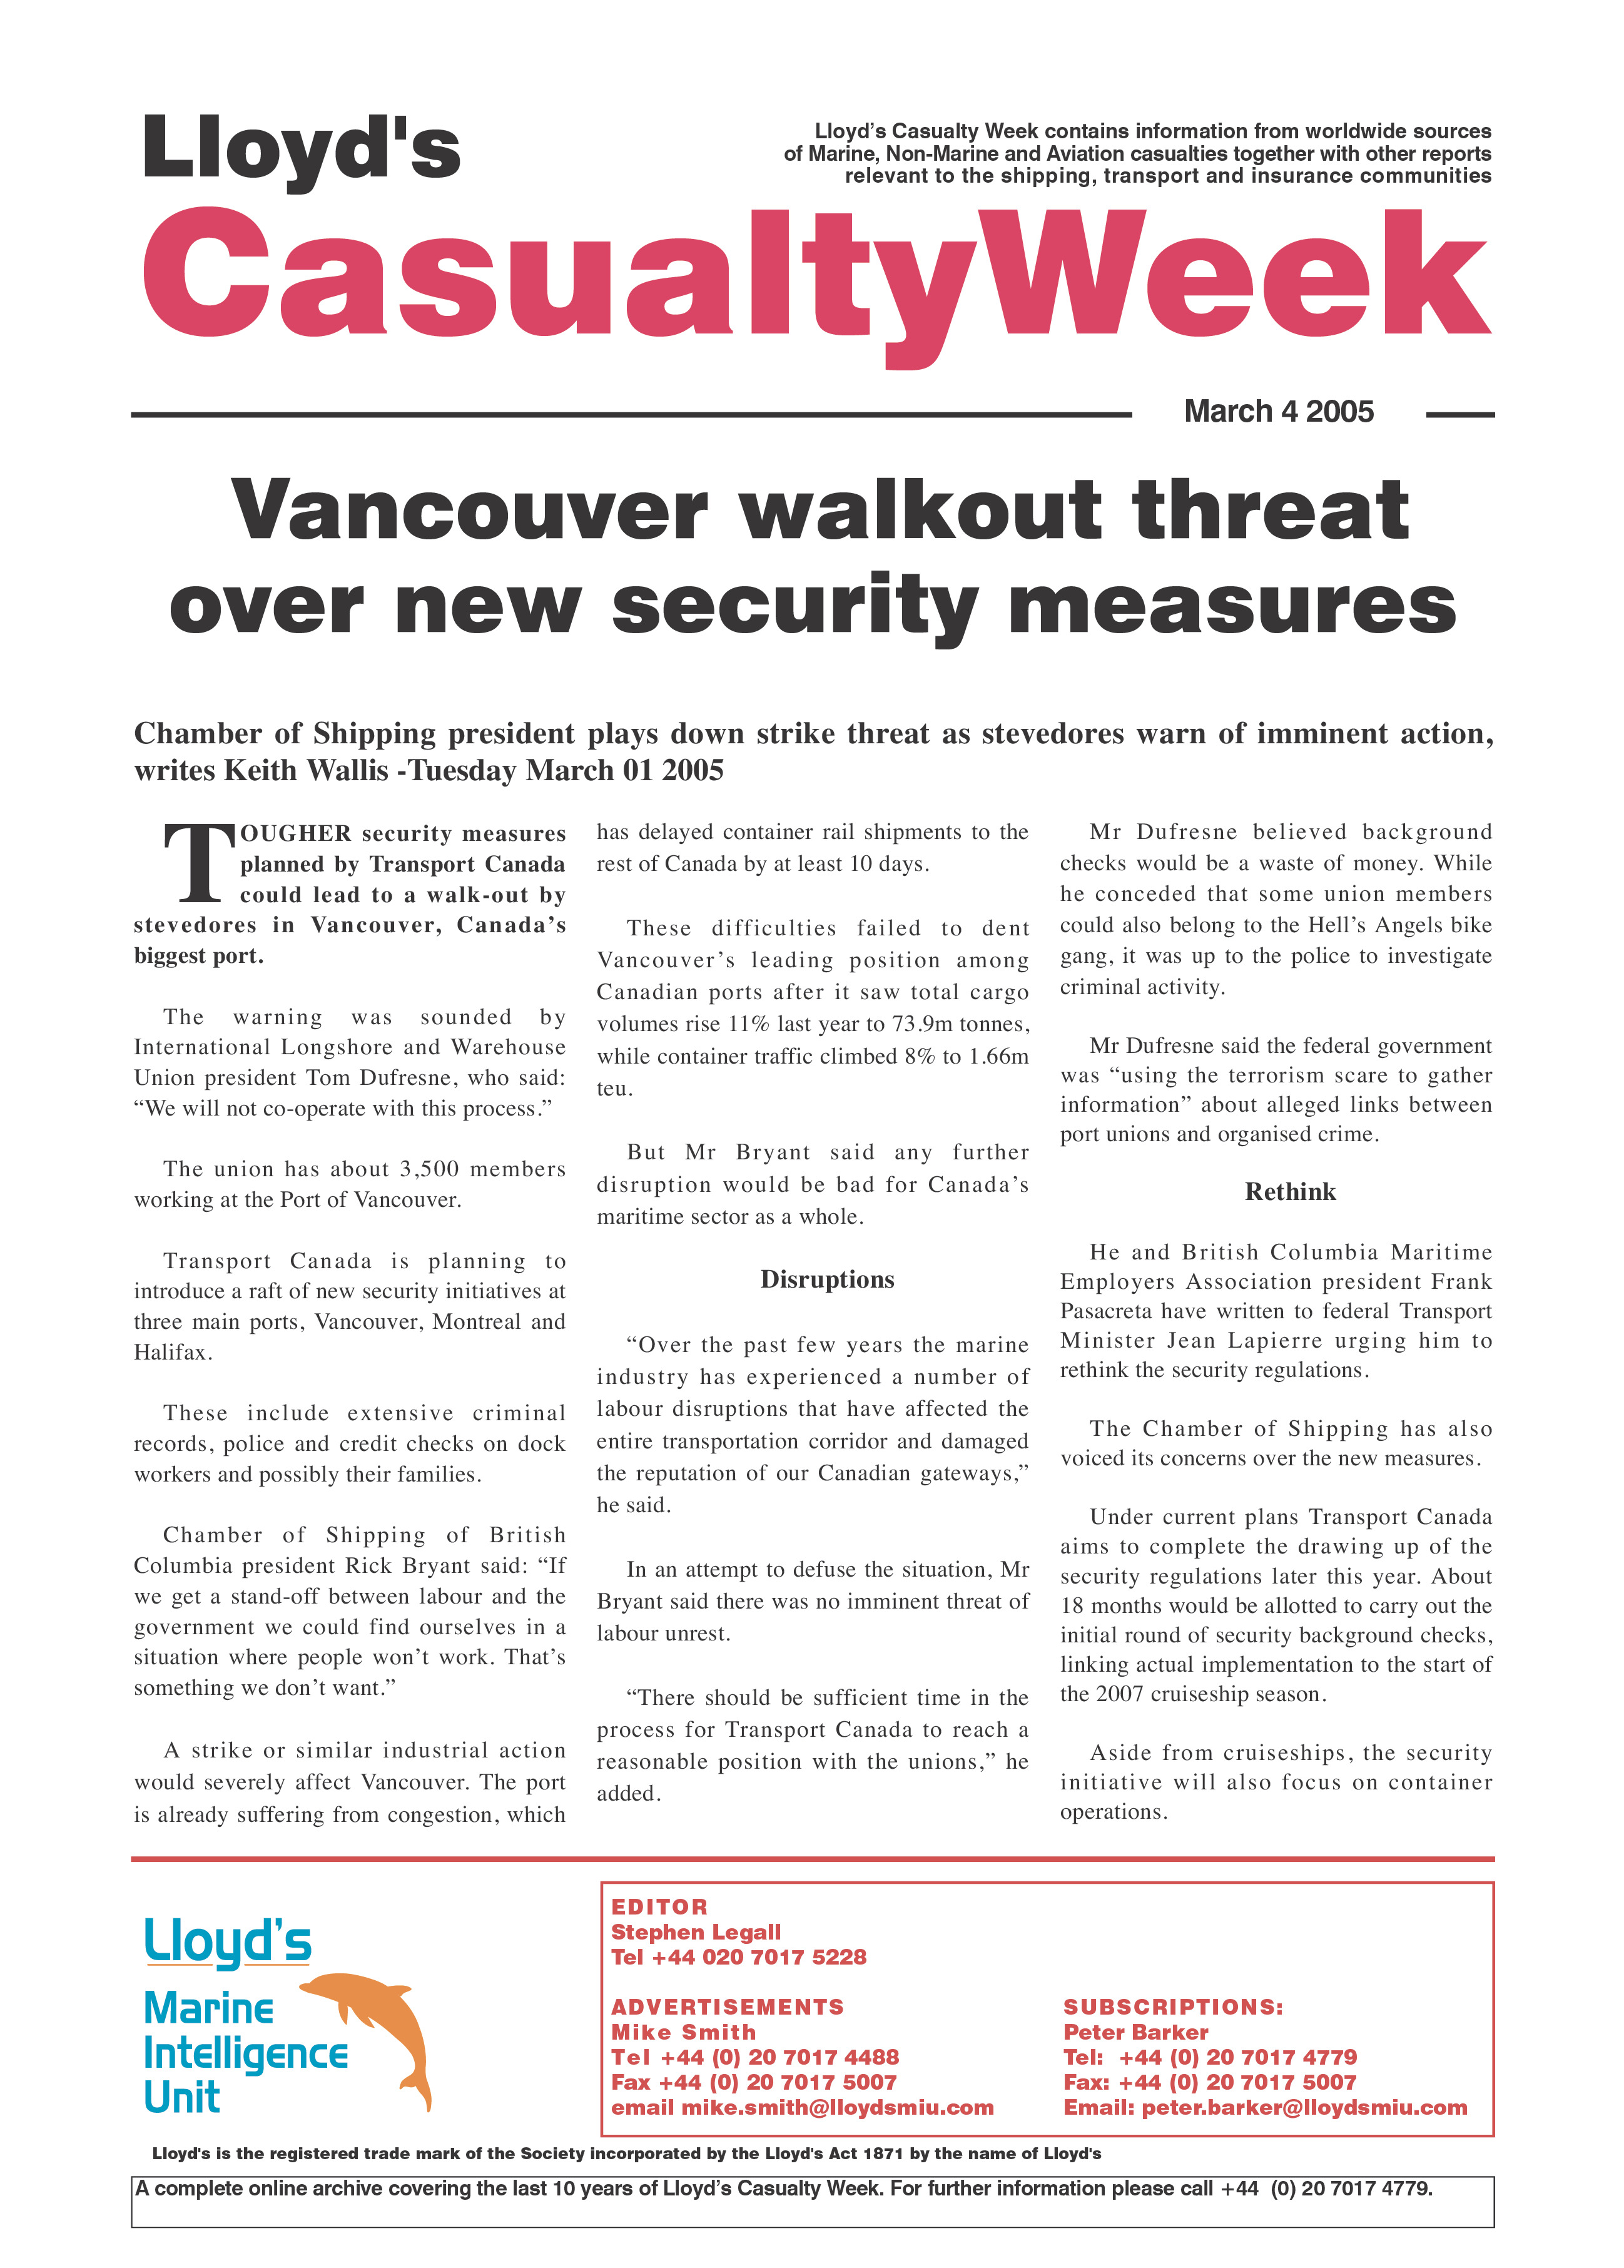figure: (294, 1959, 460, 2101)
section: (146, 197, 1496, 357), (160, 480, 1455, 640), (137, 97, 483, 186), (759, 1262, 912, 1306)
text: (137, 723, 1497, 782), (137, 1528, 566, 1714), (599, 1336, 1026, 1523), (1069, 1512, 1485, 1702), (592, 916, 1035, 1092), (1062, 823, 1497, 997), (137, 816, 573, 969), (1060, 1247, 1496, 1392), (606, 1676, 1030, 1813), (137, 999, 566, 1132), (789, 120, 1504, 193), (1060, 1988, 1466, 2119), (1062, 1032, 1497, 1152), (141, 1252, 573, 1371), (606, 1995, 990, 2122), (137, 1911, 336, 2112), (137, 1744, 580, 1832), (599, 1558, 1019, 1642), (606, 1143, 1030, 1225), (1062, 1742, 1485, 1825), (130, 1408, 569, 1486), (589, 819, 1035, 876), (141, 1159, 580, 1213), (1065, 1419, 1496, 1468), (619, 1892, 875, 1971), (1185, 396, 1373, 425), (1239, 1173, 1339, 1206)
